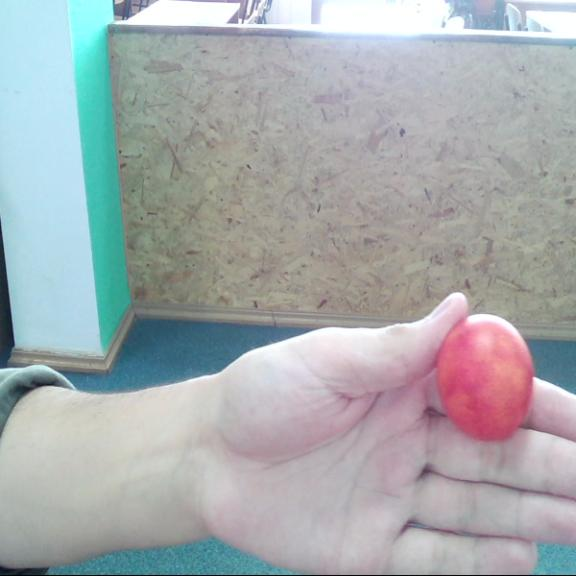ball: (438, 315, 534, 437)
